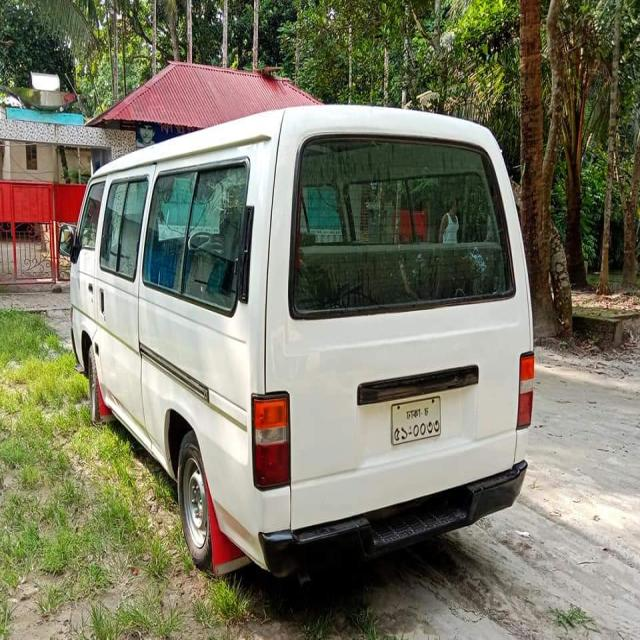white: (63, 105, 538, 554)
